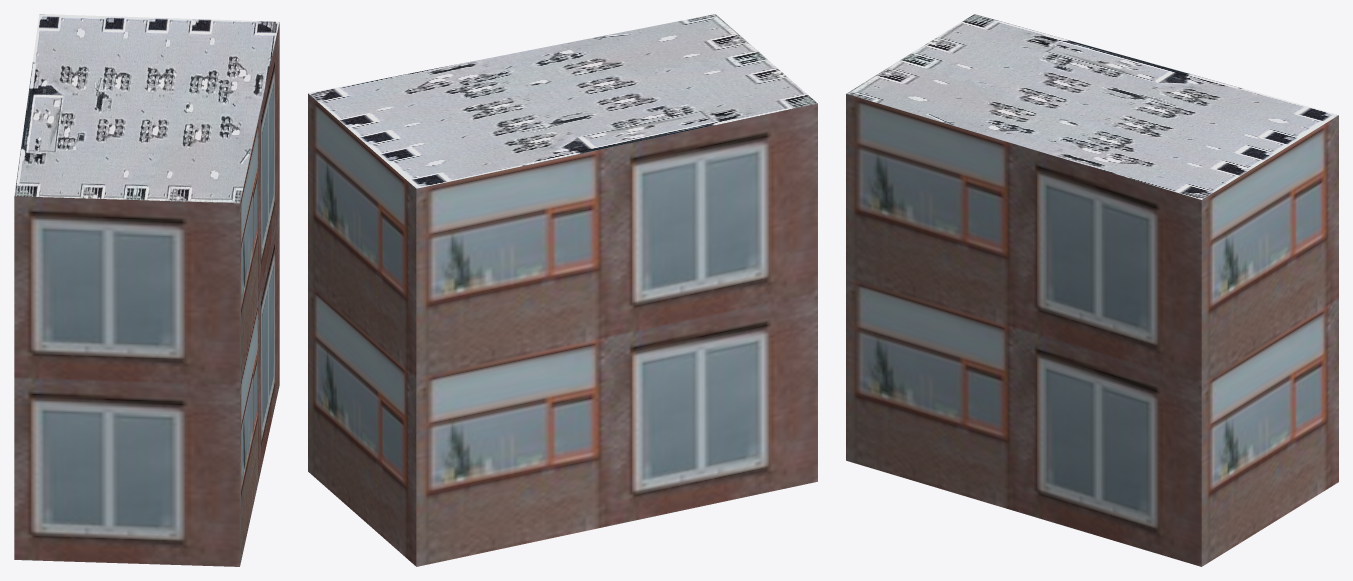
The model's file is ResTex__3223.fbx.
3 views of the same model, side by side, from view 1: azimuth 30°, elevation 25°; view 2: azimuth 150°, elevation 25°; view 3: azimuth 270°, elevation 25° (orthographic). The views are drawn at different scales.
Parts seen in each view (by area): view 1: CityEngineMaterial_19_m, CityEngineMaterial_15_m; view 2: CityEngineMaterial_19_m, CityEngineMaterial_15_m; view 3: CityEngineMaterial_19_m, CityEngineMaterial_15_m.
Boxes of the visible parts, x1=… form: CityEngineMaterial_19_m: x1=14, y1=22, x2=279, y2=566; CityEngineMaterial_15_m: x1=14, y1=14, x2=279, y2=203; CityEngineMaterial_19_m: x1=308, y1=93, x2=817, y2=566; CityEngineMaterial_15_m: x1=308, y1=14, x2=817, y2=188; CityEngineMaterial_19_m: x1=846, y1=94, x2=1338, y2=566; CityEngineMaterial_15_m: x1=846, y1=14, x2=1338, y2=199.
Size of the model in its own units: 6.52 by 6 by 7.3.
Materials: 2 (2 with a texture image).
